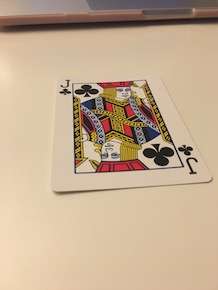JackOfClubs: (50, 71, 214, 200)
